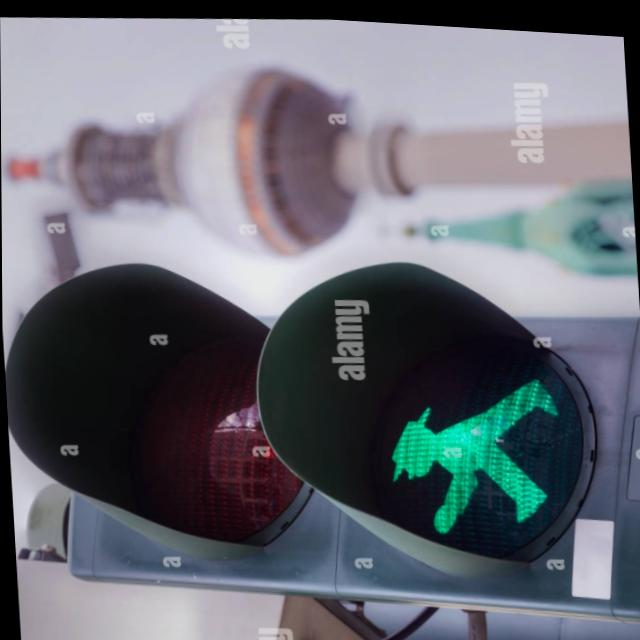green_light: (119, 214, 411, 473)
